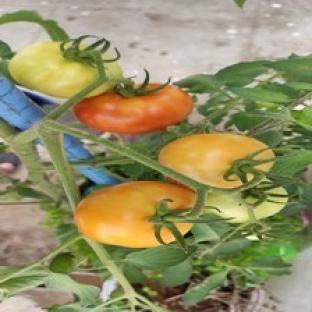Tomato: (74, 182, 194, 247), (159, 134, 274, 189), (73, 85, 193, 133), (9, 42, 98, 97), (205, 187, 288, 222)
